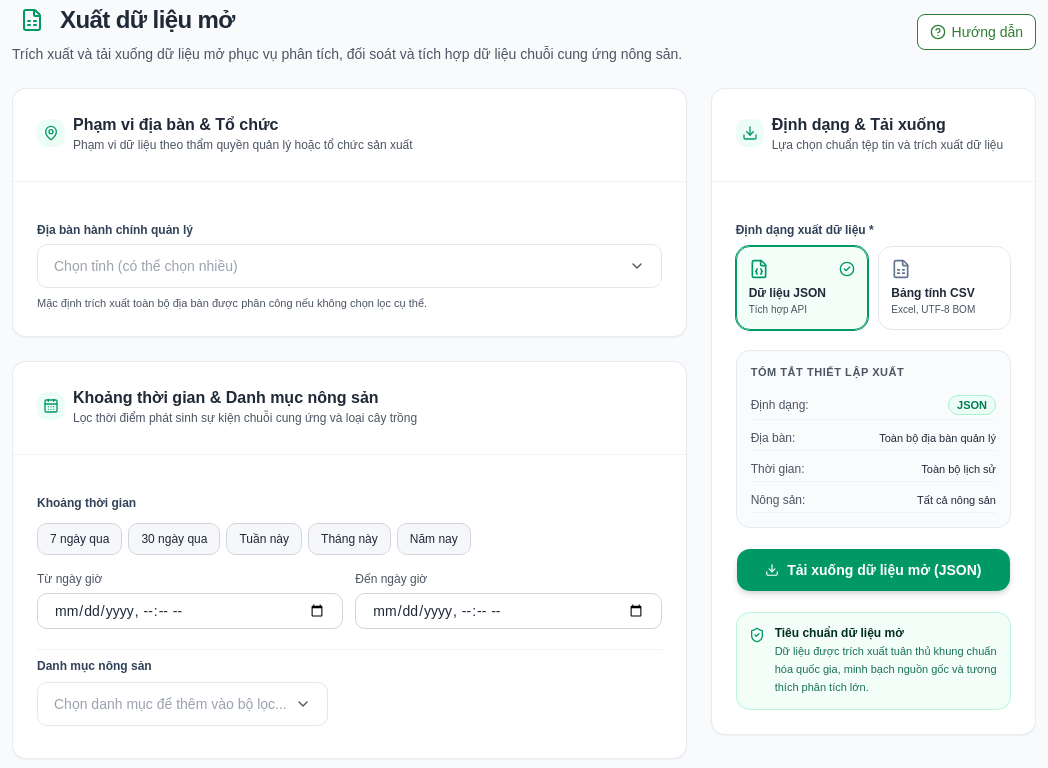
ExportOpenDataPage UI/UX Synchronization › allows switching format between JSON and CSV
The width and height of the screenshot is (1048, 768).
Click the text "Bảng tính CSV".
click(933, 293)  # box [891, 285, 975, 301]
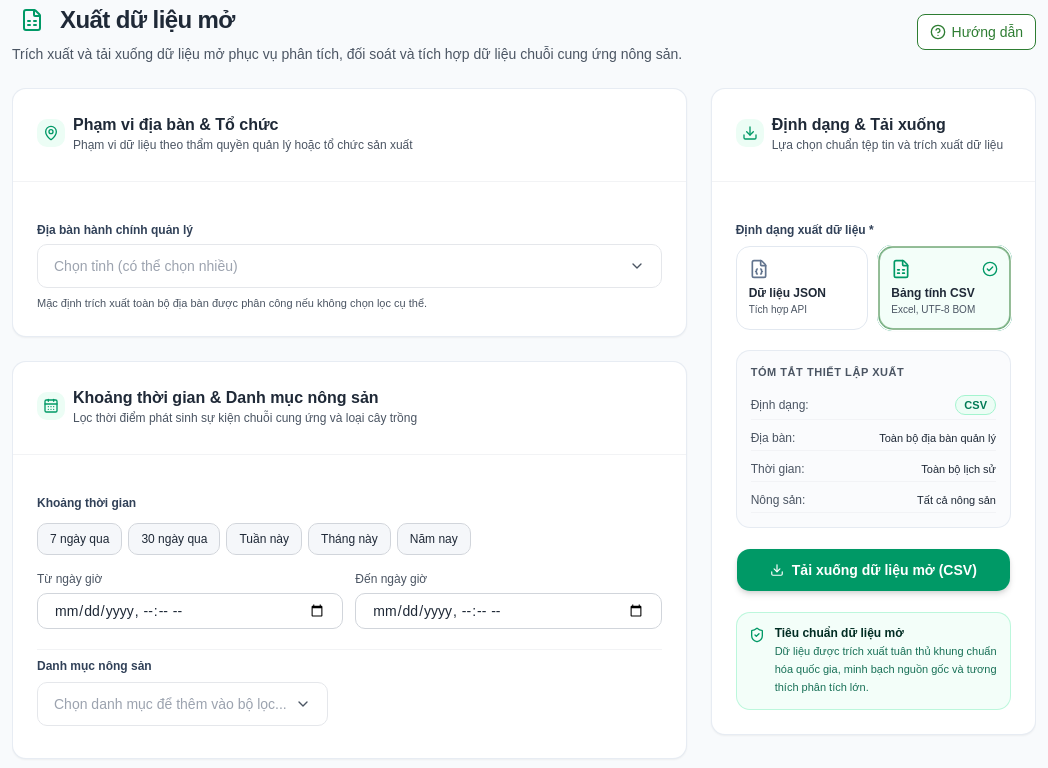
Result: the button "Tải xuống dữ liệu mở (CSV)" is shown at [736, 548, 1011, 592]
